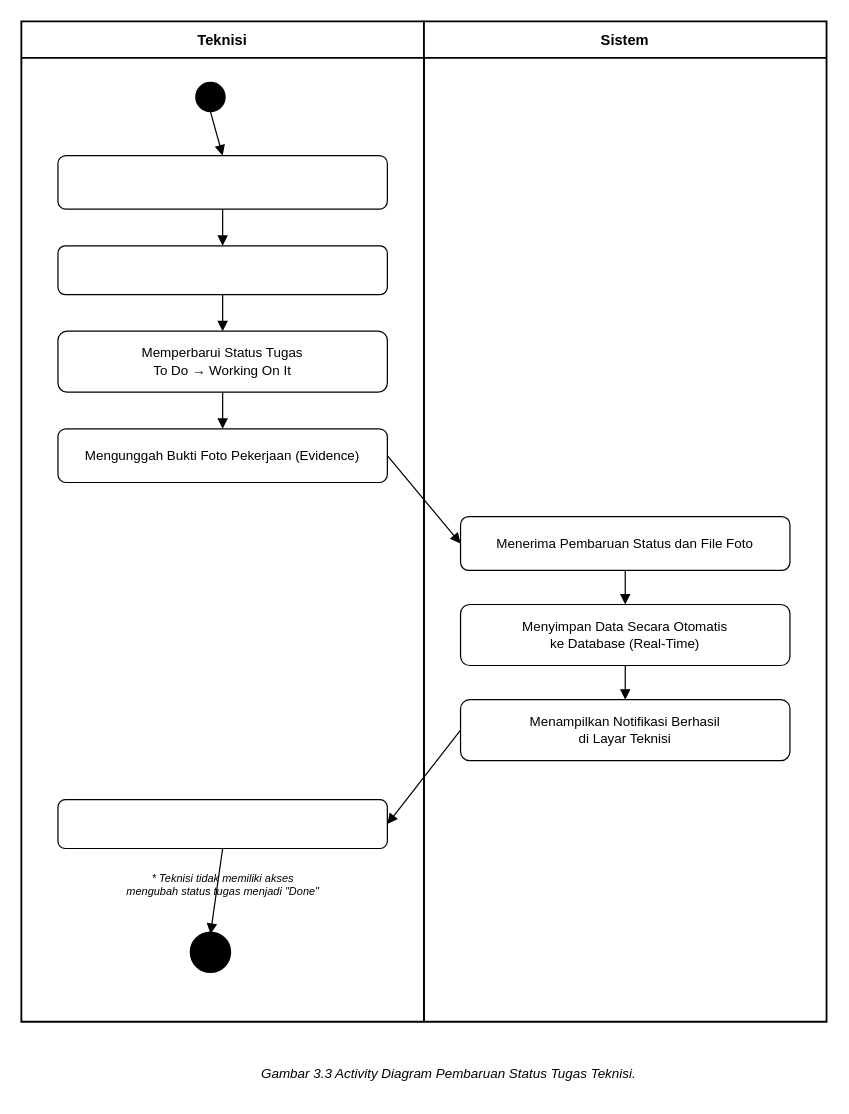
This 849x1114 diagram has some shape labels left out. The centre of each missing label's shape, as x and y in pixels:
Melihat Pembaruan Tugas: point 222,823
Membuka Halaman Detail Proyek dan Tugas: point 222,181
Memilih Tugas pada Papan Kanban: point 222,270
